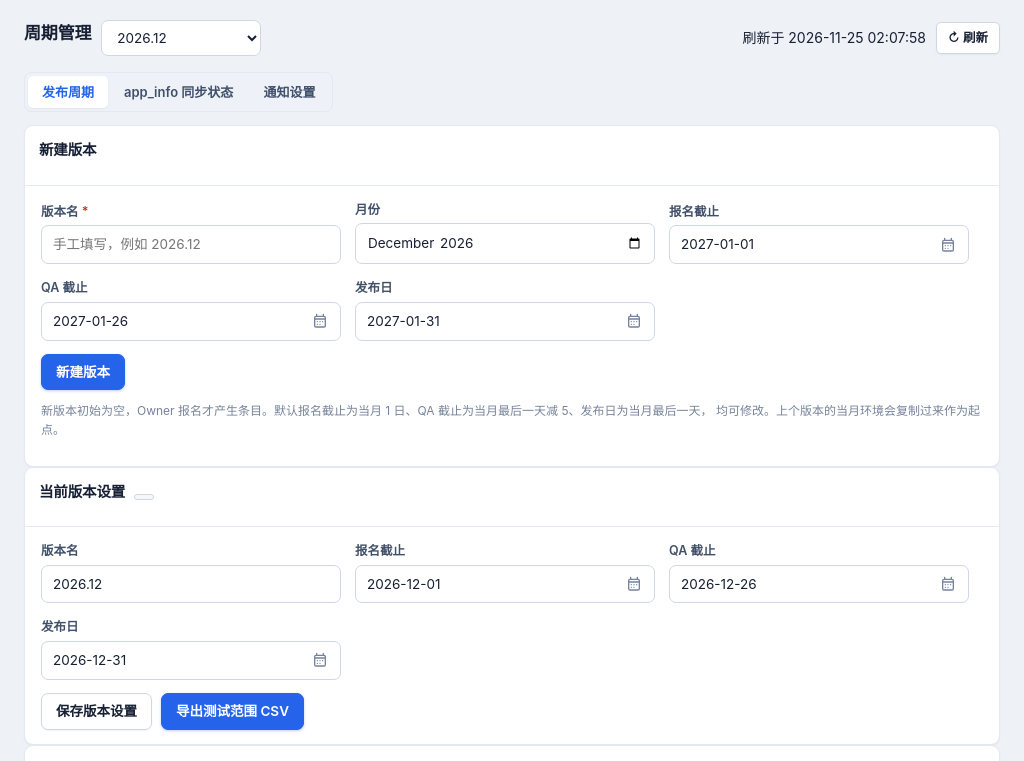
Test: new version › prefills default dates for the month and requires a manual name
Later steps or results of the test are not shown.
Step 1. Replace the text in the field with test id "new-release-month" with "2027-01" → (505, 244), box x1=355 y1=223 x2=655 y2=264
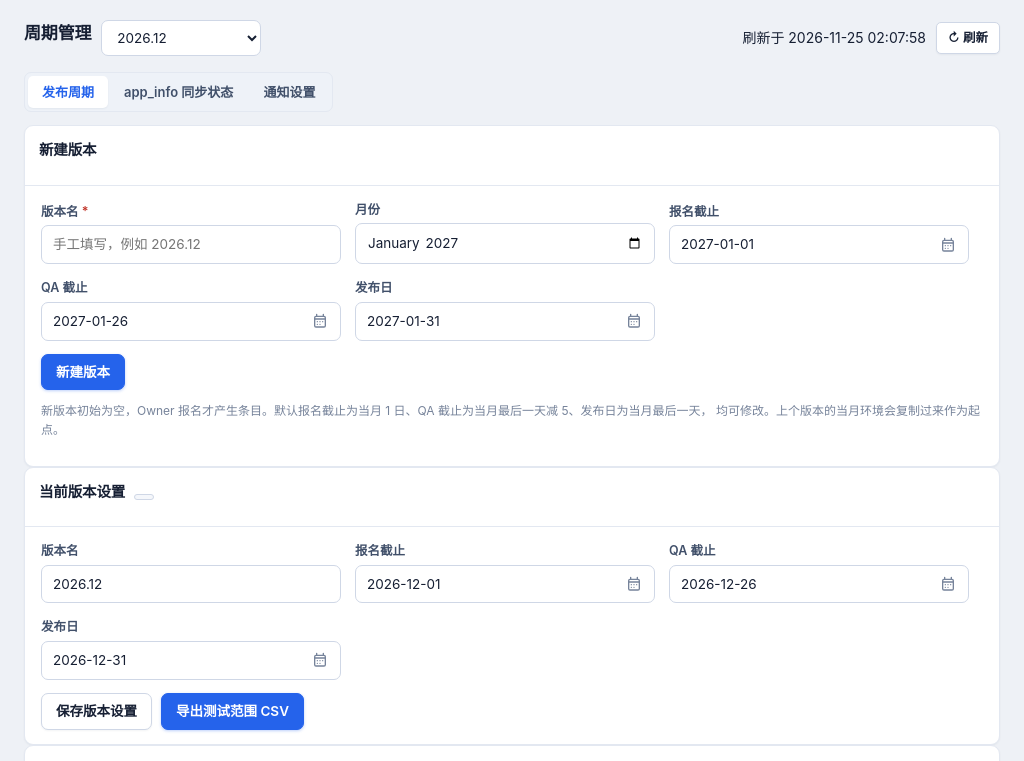
Expected: the field with test id "new-qa-deadline" holds "2027-01-26", x1=41 y1=302 x2=341 y2=340
Expected: the field with test id "new-signup-deadline" holds "2027-01-01", x1=669 y1=225 x2=969 y2=264
Step 2. Click the button with test id "create-release-btn" → (83, 372), box x1=41 y1=354 x2=125 y2=390
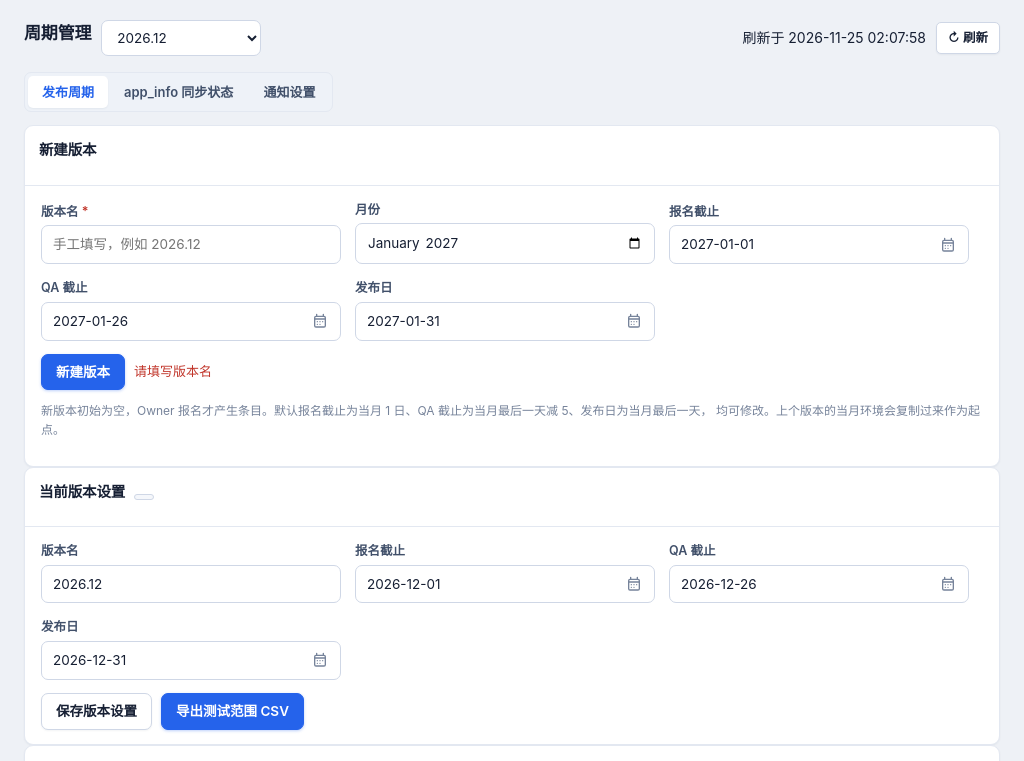
Now the message with test id "create-err" reads "请填写版本名", box x1=134 y1=363 x2=212 y2=379
